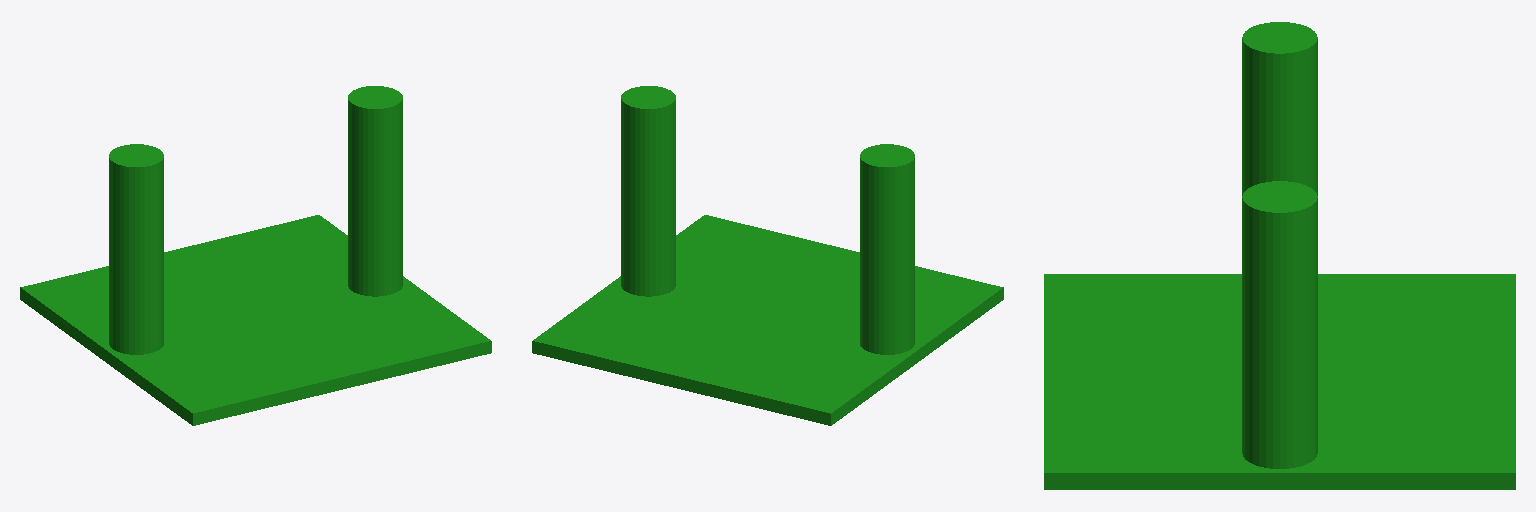
URDF robot description (rodSupport):
<robot
  name="rodSupport">
  <link name="rodSupport">
    <inertial>
      <origin xyz="0.0 0.0 0.0" rpy="0 0 0"/>
      <mass value="2.0"/>
      <inertia ixx="1" ixy="0.0" ixz="0.0" iyy="1" iyz="0.0" izz="1" />
    </inertial>

    <visual>
      <geometry>
        <mesh filename="../meshes/rodSupport.dae" scale="1 1 1" />
      </geometry>
     </visual>

    <collision>
      <geometry>
        <mesh filename="../meshes/rodSupport.dae" scale="1 1 1" />
      </geometry>
    </collision>

  </link>
</robot>

--- What the picture shows (computed from the rendered views, not written in the file) ---
3 views of the same robot in one strip: view 1: azimuth 30°, elevation 25°; view 2: azimuth 150°, elevation 25°; view 3: azimuth 270°, elevation 25° (orthographic).
Model rodSupport with 1 links and 0 joints (none), rooted at rodSupport, posed every joint at zero.
Links seen in each view (by area): view 1: rodSupport; view 2: rodSupport; view 3: rodSupport.
Link boxes in pixels (x1=…): rodSupport: x1=20, y1=86, x2=491, y2=425; rodSupport: x1=532, y1=86, x2=1003, y2=425; rodSupport: x1=1044, y1=22, x2=1515, y2=489.
Bounding box of the posed robot: 0.25 × 0.25 × 0.16 m (x, y, z).
1 mesh visuals loaded from 1 distinct referenced files (1 Collada DAE).